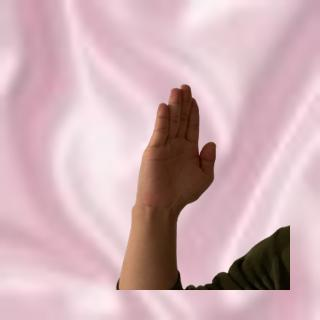RIGHT: (135, 79, 225, 229)
